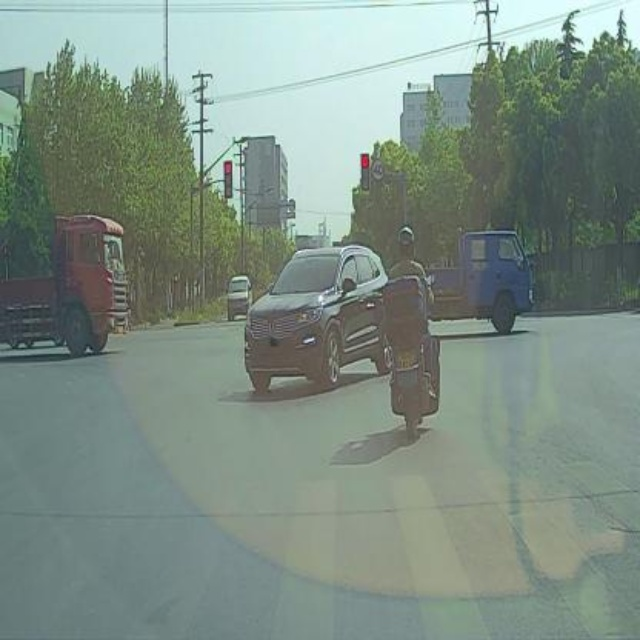Đèn đỏ: (223, 158, 234, 200), (362, 155, 370, 195)
